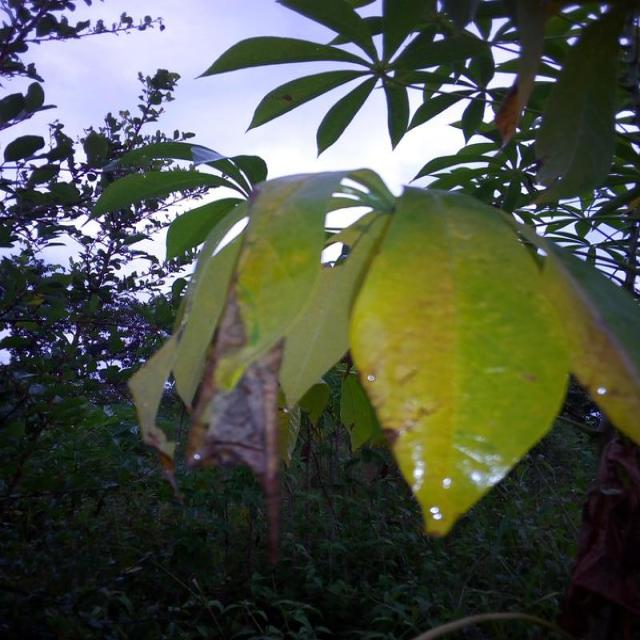cassava leaf: (128, 164, 638, 541), (346, 183, 572, 538)
